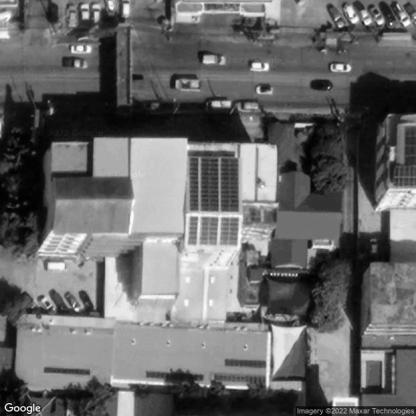solar-pv-panel: (189, 159, 240, 212), (187, 216, 239, 245), (394, 126, 416, 188)
